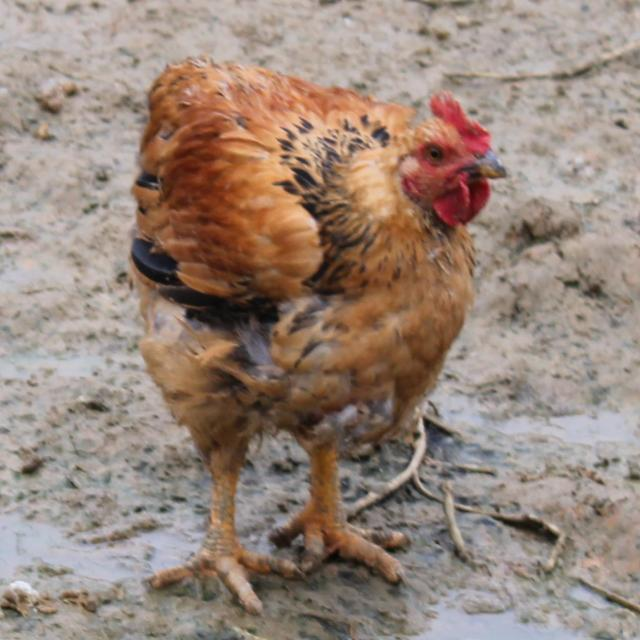hen: (74, 51, 515, 640)
